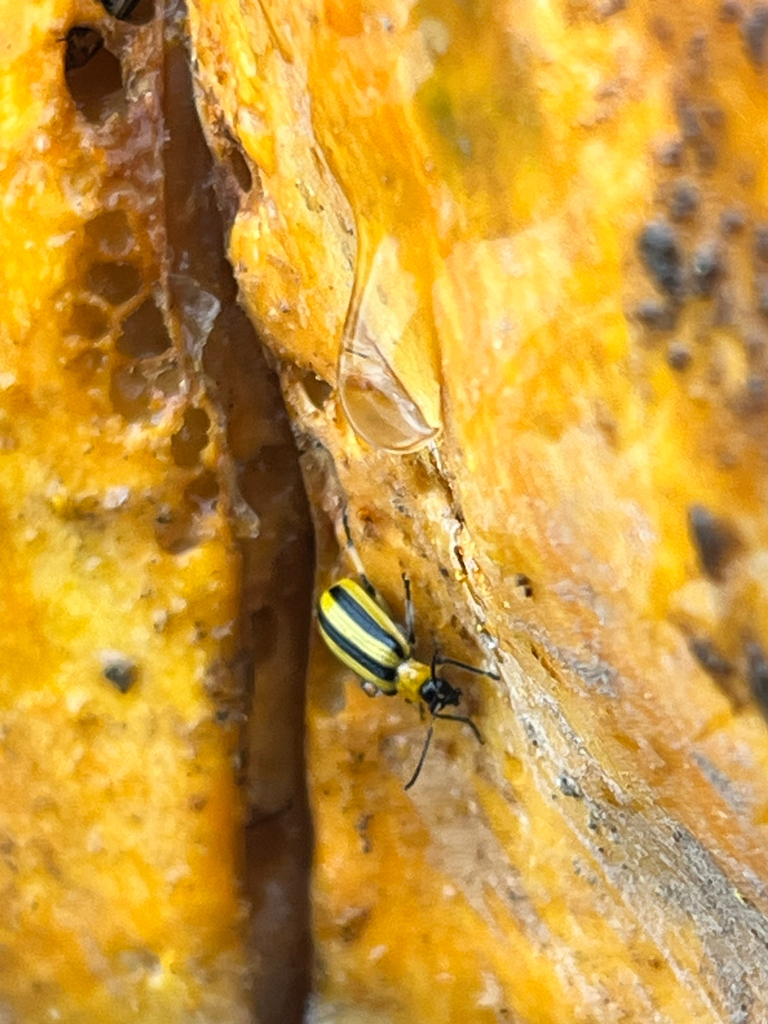potato_beetle: (257, 506, 544, 835)
